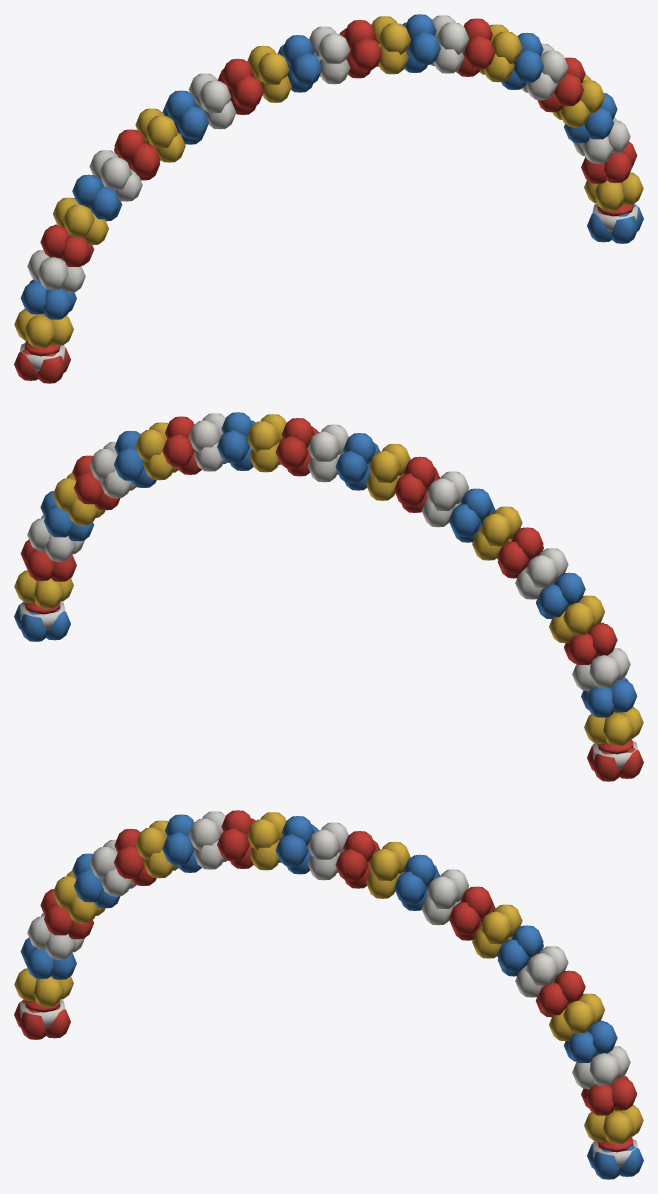
Rendered from prop.balloon_arch.glb.
The picture shows the model from 3 angles, top to bottom: view 1: azimuth 30°, elevation 25°; view 2: azimuth 150°, elevation 25°; view 3: azimuth 330°, elevation 25°; orthographic projection.
Parts seen in each view (by area): view 1: balloon_arch; view 2: balloon_arch; view 3: balloon_arch.
Part boxes in pixels (x1,y1,x2,y2): balloon_arch: (14, 14, 643, 383); balloon_arch: (14, 412, 643, 781); balloon_arch: (14, 810, 643, 1179).
Size of the model in its own units: 21.71 by 9.4 by 1.84.
